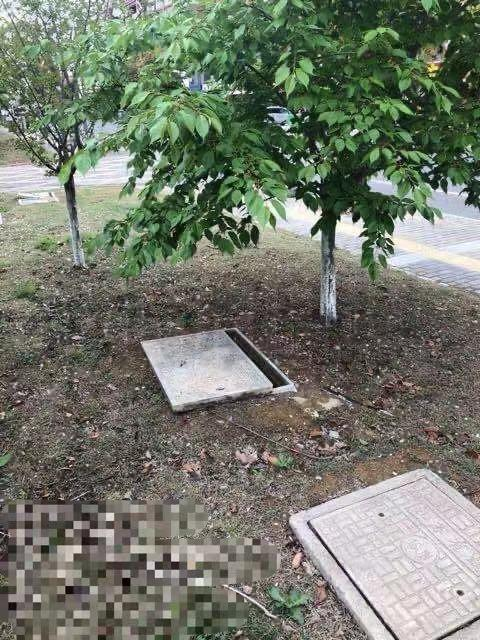wellcover: (294, 464, 480, 640), (137, 330, 299, 416)
